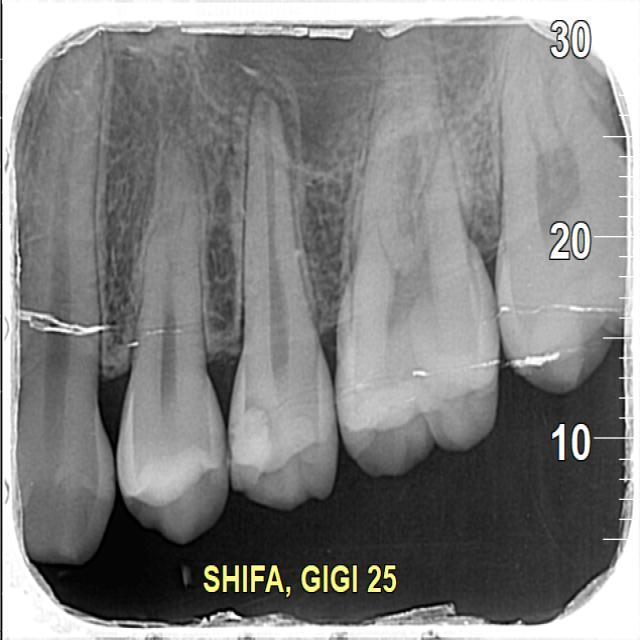individual-tooth-8tto: (344, 60, 492, 476), (231, 98, 335, 503), (118, 150, 225, 534)
